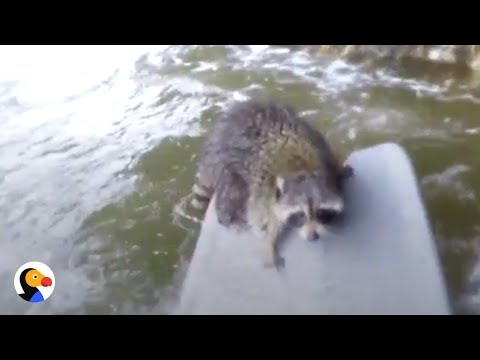raccoon: (175, 91, 372, 282)
